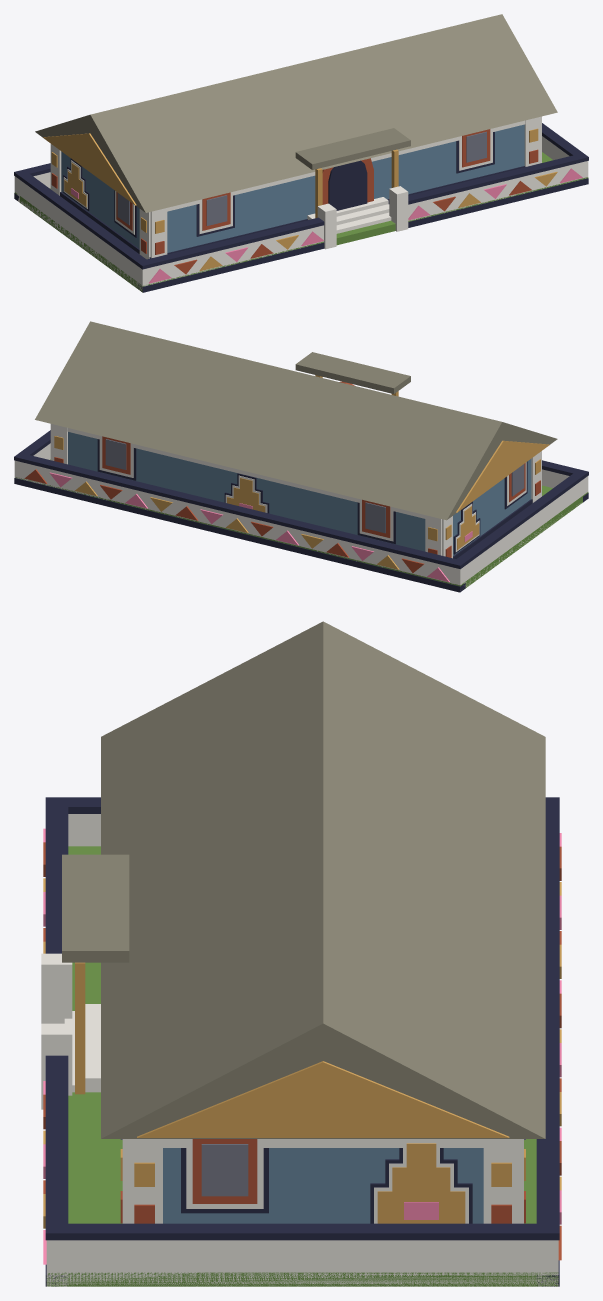
File: house-2x1-1f-ndebele-a.glb
3 renders of one model, top to bottom at view 1: azimuth 30°, elevation 25°; view 2: azimuth 150°, elevation 25°; view 3: azimuth 270°, elevation 25°, orthographic. The views are drawn at different scales.
Parts seen in each view (by area): view 1: house-2x1-1f-ndebele-a; view 2: house-2x1-1f-ndebele-a; view 3: house-2x1-1f-ndebele-a.
Part boxes in pixels (x1,y1,x2,y2): house-2x1-1f-ndebele-a: (14,14,588,292); house-2x1-1f-ndebele-a: (14,321,588,592); house-2x1-1f-ndebele-a: (41,621,561,1286).
Size of the model in its own units: 1.99 by 0.5265 by 1.01.
1 material, 1 textured.
